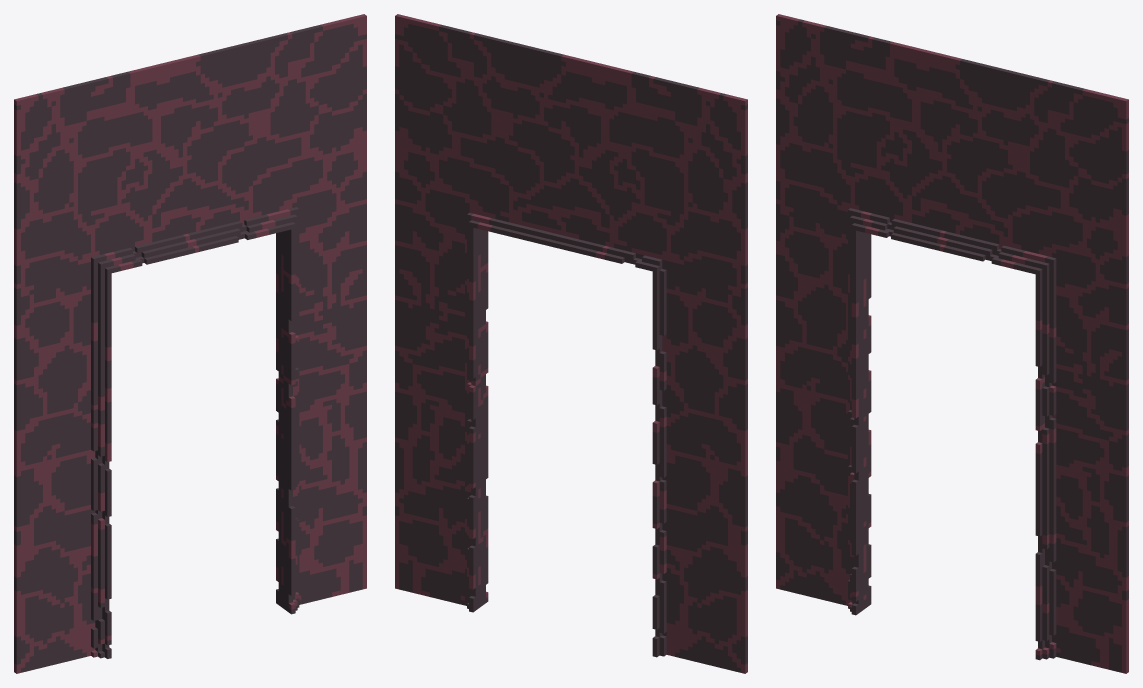
File: ParedRojaConBorde-3.obj
The picture shows the model from 3 angles, left to right: view 1: azimuth 30°, elevation 25°; view 2: azimuth 150°, elevation 25°; view 3: azimuth 330°, elevation 25°; orthographic projection.
Bounding box in the file's own units: 8 × 12.5 × 0.6.
1 material, 1 textured.
